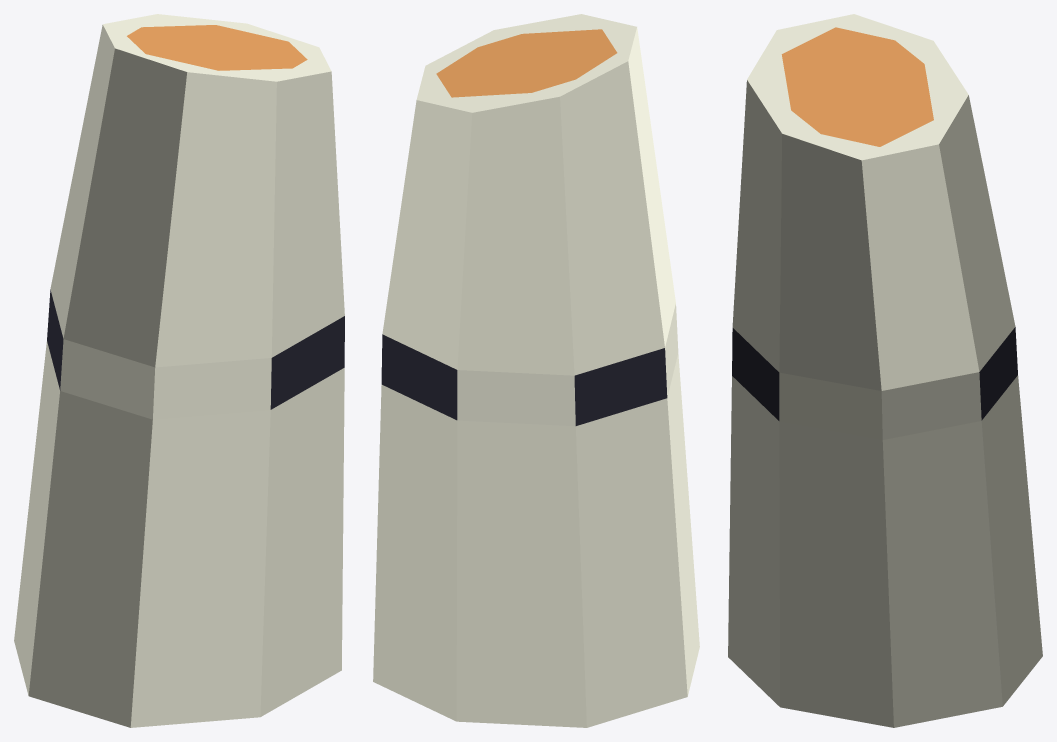
Rendered from Stump2_autumn.FBX.
3 views of the same model, side by side, from view 1: azimuth 30°, elevation 25°; view 2: azimuth 150°, elevation 25°; view 3: azimuth 270°, elevation 25° (orthographic). The views are drawn at different scales.
Parts seen in each view (by area): view 1: Berezka pen.009; view 2: Berezka pen.009; view 3: Berezka pen.009.
Boxes of the visible parts, x1,y1,x2,y2 form: Berezka pen.009: (14, 14, 344, 727); Berezka pen.009: (373, 14, 699, 727); Berezka pen.009: (728, 14, 1042, 727).
Size of the model in its own units: 0.4715 by 0.9367 by 0.4409.
